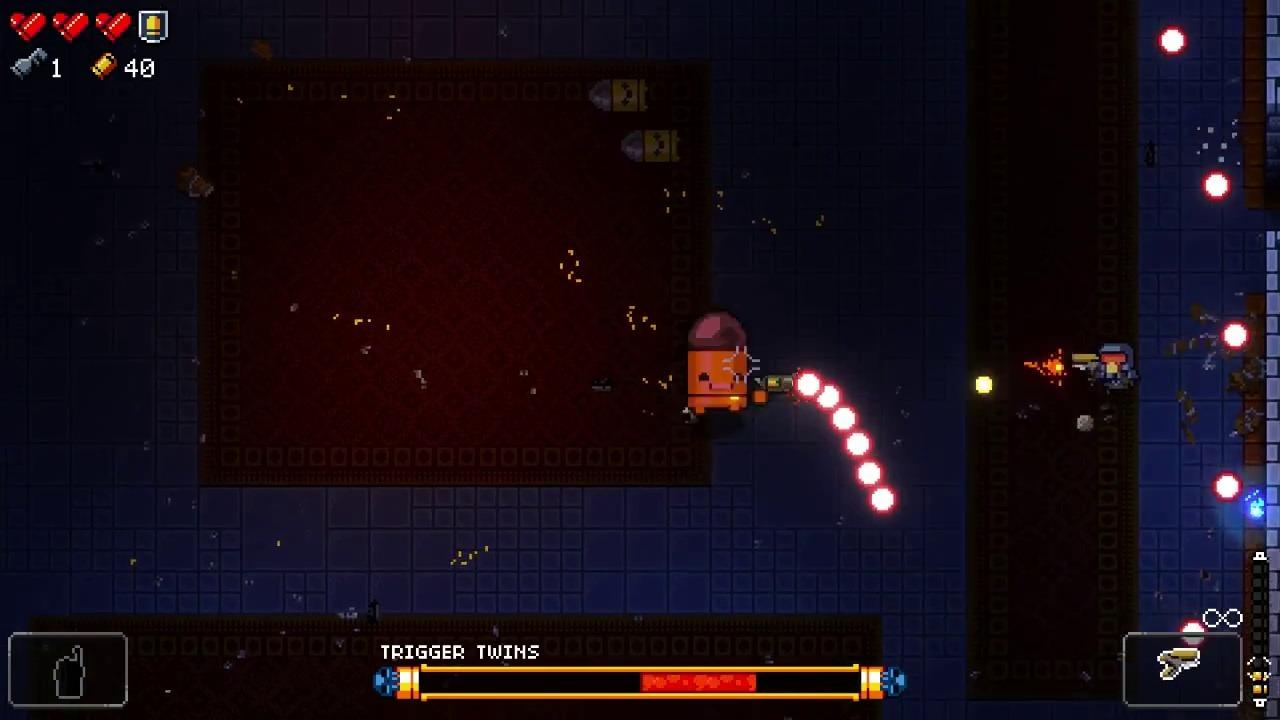boss_smiley: (686, 311, 745, 415)
bullet: (1158, 23, 1189, 58), (866, 484, 899, 516), (1201, 169, 1233, 201), (1219, 322, 1253, 352), (815, 380, 844, 415), (794, 368, 825, 400), (1213, 474, 1246, 503), (845, 429, 872, 461), (834, 403, 858, 438), (858, 460, 883, 487)
dead_bullet_kin: (618, 129, 680, 167), (588, 79, 650, 114)
player: (1096, 342, 1142, 392)
